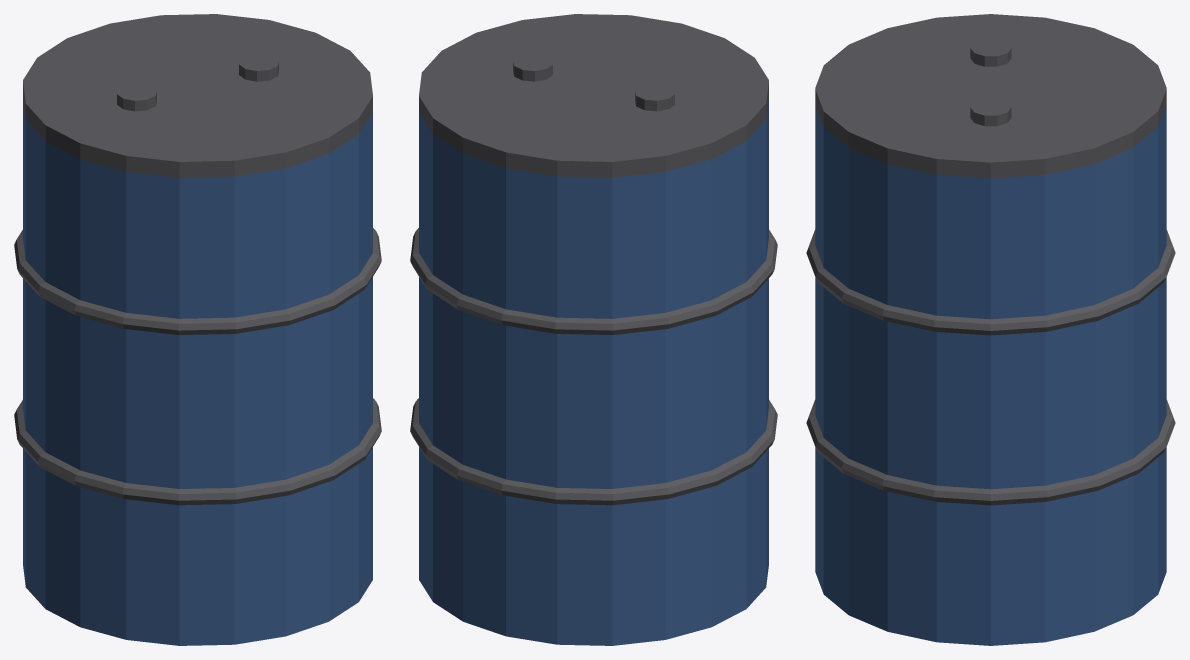
Rendered from oil-drum.glb.
3 views of the same model, side by side, from view 1: azimuth 30°, elevation 25°; view 2: azimuth 150°, elevation 25°; view 3: azimuth 270°, elevation 25° (orthographic).
Parts seen in each view (by area): view 1: Cylinder, Cylinder.001, Torus.004, Torus.003, Cylinder.002, Cylinder.003; view 2: Cylinder, Cylinder.001, Torus.004, Torus.003, Cylinder.002, Cylinder.003; view 3: Cylinder, Cylinder.001, Torus.004, Torus.003, Cylinder.002, Cylinder.003.
Boxes of the visible parts, x1,y1,x2,y2 form: Cylinder: [23, 98, 372, 645]; Cylinder.001: [23, 14, 372, 177]; Torus.004: [14, 228, 381, 334]; Torus.003: [14, 398, 381, 505]; Cylinder.002: [117, 83, 156, 111]; Cylinder.003: [239, 54, 278, 81]; Cylinder: [419, 98, 768, 645]; Cylinder.001: [419, 14, 768, 177]; Torus.004: [410, 228, 777, 334]; Torus.003: [410, 398, 777, 505]; Cylinder.002: [635, 83, 674, 111]; Cylinder.003: [513, 54, 552, 81]; Cylinder: [815, 105, 1166, 645]; Cylinder.001: [815, 14, 1166, 178]; Torus.004: [806, 230, 1175, 335]; Torus.003: [806, 400, 1175, 505]; Cylinder.002: [970, 39, 1011, 66]; Cylinder.003: [970, 99, 1011, 126].
Size of what is drawn, in the model's own units: 0.63 by 0.93 by 0.63.
